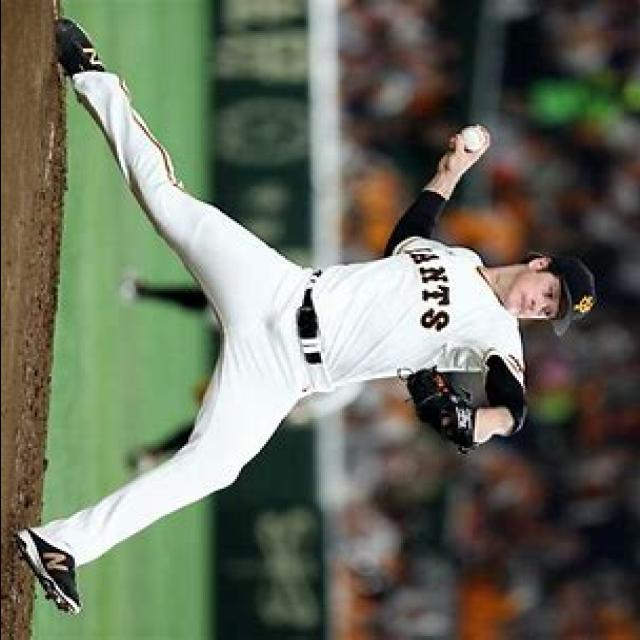ball: (459, 124, 485, 152)
glove: (393, 361, 483, 459)
